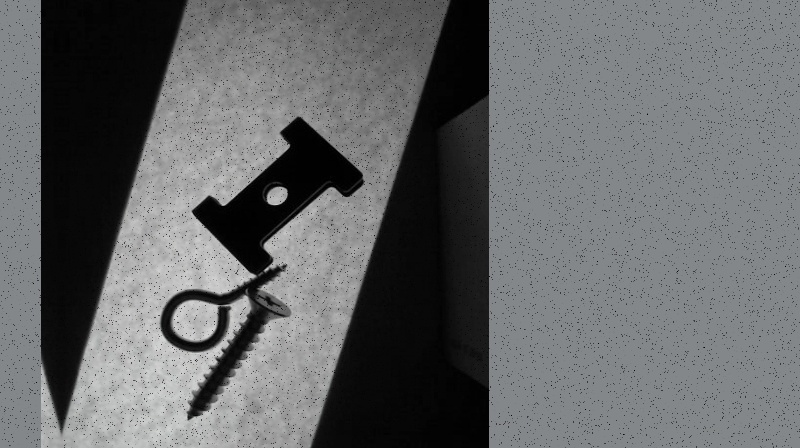O001: (158, 260, 289, 352)
O002: (192, 115, 363, 271)
S001: (182, 286, 290, 422)
